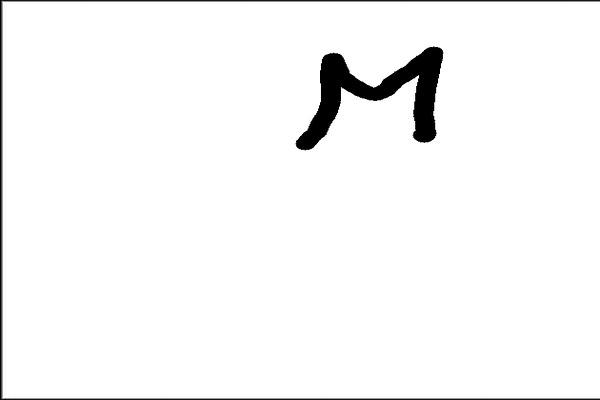M: (294, 45, 448, 149)
